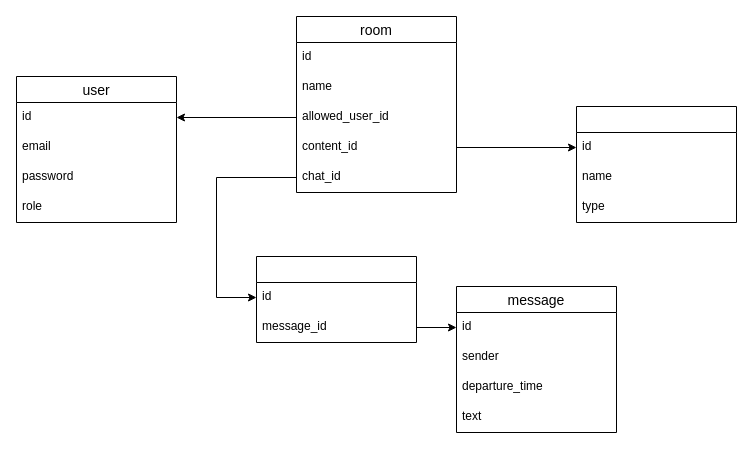
Some shapes in this 753 by 449 pixel diagram are drawn without their labels. The shapes that lost their labels are listed below. From the top down, each one's box as (x1, y1, x2, y2) in pixels, then its label:
(576, 106, 736, 222): content
(256, 256, 416, 342): chat
